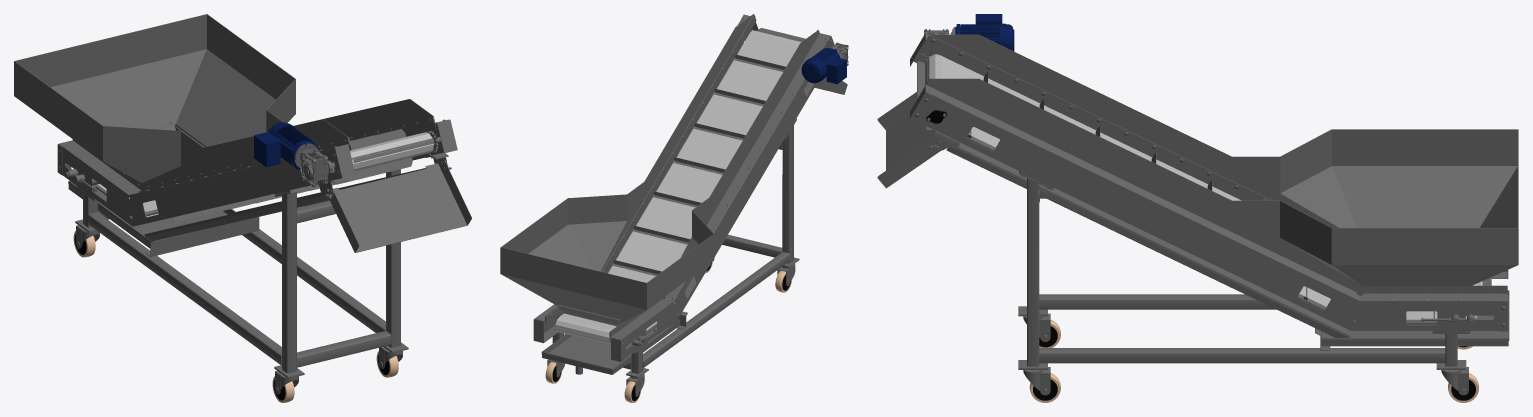
The model's file is DEMO_5.FBX.
The picture shows the model from 3 angles, left to right: view 1: azimuth 30°, elevation 25°; view 2: azimuth 150°, elevation 25°; view 3: azimuth 270°, elevation 25°; orthographic projection. The views are drawn at different scales.
Visible parts, largest first — view 1: 底座, 外觀板金, 出脫網帶, 出脫網帶12, 出脫網帶10; view 2: 外觀板金, 底座, 出脫網帶, 出脫網帶05, 出脫網帶07, 出脫網帶10, 出脫網帶08, 出脫網帶09; view 3: 外觀板金, 底座, 出脫網帶.
Boxes of the visible parts, x1,y1,x2,y2 form: 底座: [57, 119, 471, 402]; 外觀板金: [14, 14, 449, 195]; 出脫網帶: [97, 132, 433, 217]; 出脫網帶12: [336, 157, 412, 184]; 出脫網帶10: [350, 129, 405, 149]; 外觀板金: [500, 14, 830, 341]; 底座: [533, 15, 848, 402]; 出脫網帶: [555, 30, 801, 344]; 出脫網帶05: [633, 226, 690, 244]; 出脫網帶07: [673, 157, 725, 174]; 出脫網帶10: [734, 54, 785, 71]; 出脫網帶08: [694, 123, 745, 140]; 出脫網帶09: [714, 88, 765, 106]; 外觀板金: [923, 33, 1518, 301]; 底座: [877, 14, 1509, 402]; 出脫網帶: [927, 54, 1481, 319].
Bounding box in the file's own units: 30.43 × 44.25 × 80.84.
